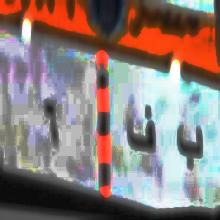6: (42, 87, 66, 154)
baa: (176, 122, 204, 170)
faa: (124, 94, 159, 160)
